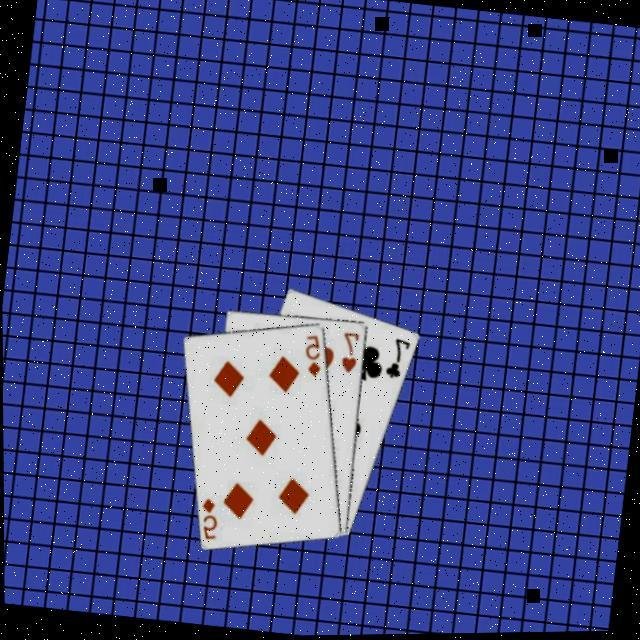5D: (297, 334, 325, 382), (192, 496, 220, 544)
7C: (379, 336, 412, 385)
7H: (334, 330, 361, 378)
